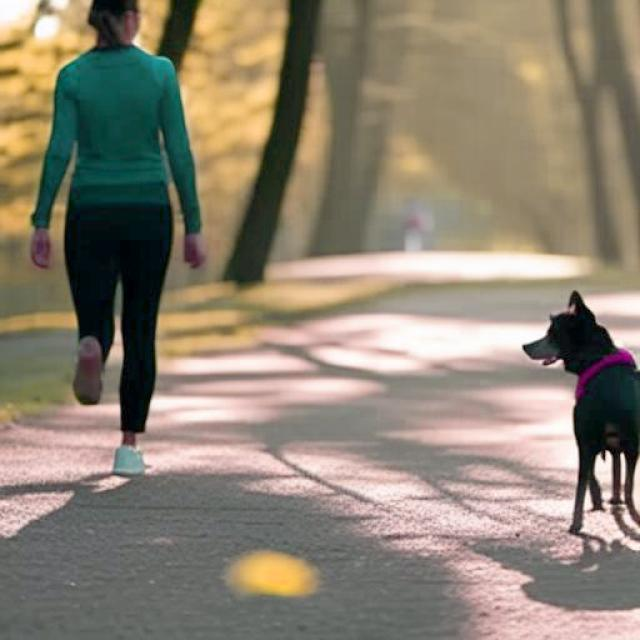Unleashed_Dog: (82, 190, 640, 535)
